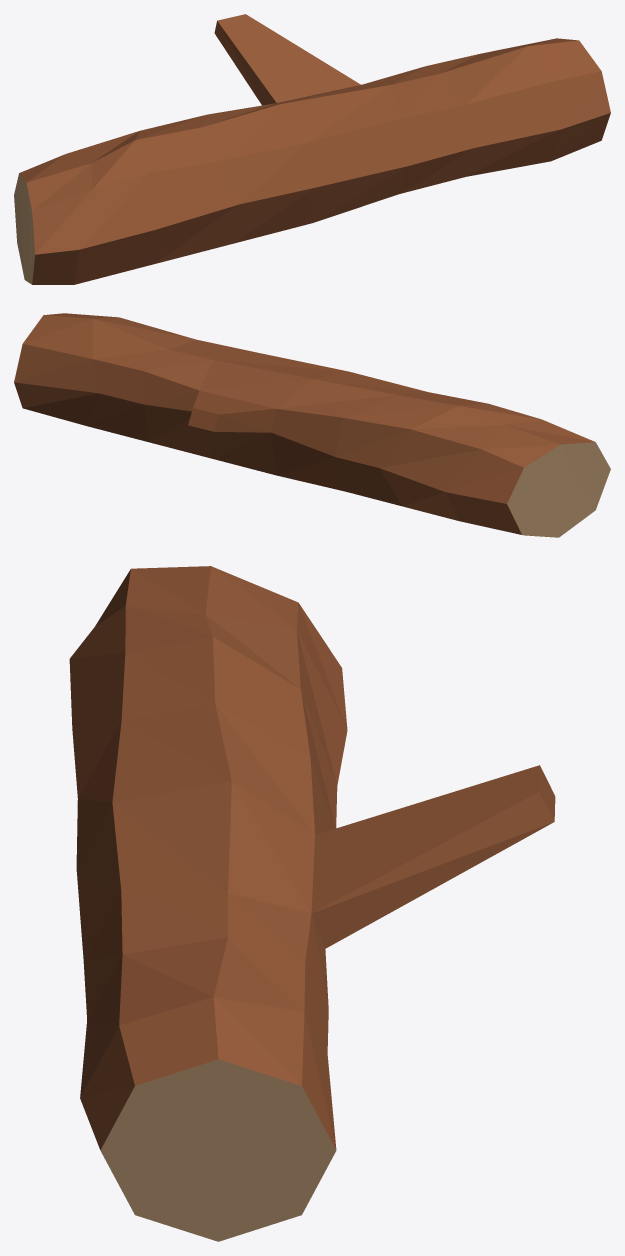
The model's file is log.lod2.glb.
3 renders of one model, top to bottom at view 1: azimuth 30°, elevation 25°; view 2: azimuth 150°, elevation 25°; view 3: azimuth 270°, elevation 25°, orthographic. The views are drawn at different scales.
Parts seen in each view (by area): view 1: Log_Material.001_0; view 2: Log_Material.001_0; view 3: Log_Material.001_0.
Part boxes in pixels (x1,y1,x2,y2): Log_Material.001_0: (14, 14, 610, 284); Log_Material.001_0: (14, 313, 610, 537); Log_Material.001_0: (69, 566, 555, 1241).
Bounding box in the file's own units: 4.5 × 1.01 × 1.76.
